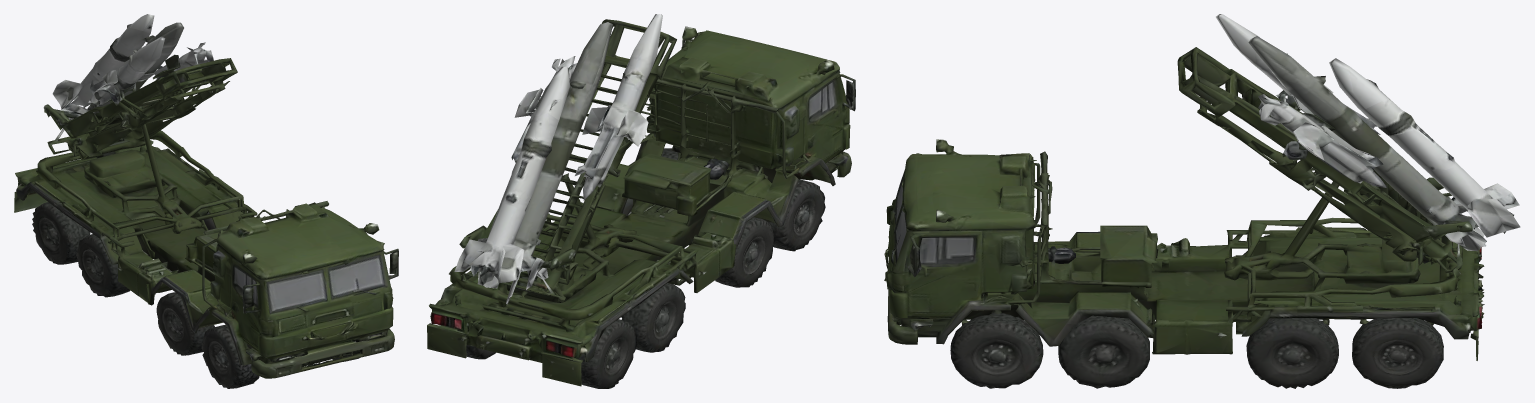
Rendered from quartel-missile-truck.glb.
3 views of the same model, side by side, from view 1: azimuth 30°, elevation 25°; view 2: azimuth 150°, elevation 25°; view 3: azimuth 270°, elevation 25° (orthographic). The views are drawn at different scales.
Visible parts, largest first — view 1: tripo_node_ed211d53-fe93-421e-b871-fcfd944717df; view 2: tripo_node_ed211d53-fe93-421e-b871-fcfd944717df; view 3: tripo_node_ed211d53-fe93-421e-b871-fcfd944717df.
Boxes of the visible parts, left/top/right/bottom form: tripo_node_ed211d53-fe93-421e-b871-fcfd944717df: left=14, top=14, right=398, bottom=388; tripo_node_ed211d53-fe93-421e-b871-fcfd944717df: left=427, top=14, right=855, bottom=388; tripo_node_ed211d53-fe93-421e-b871-fcfd944717df: left=884, top=14, right=1520, bottom=388.
Bounding box in the file's own units: 3 × 5 × 9.
Materials: 1 (1 with a texture image).
